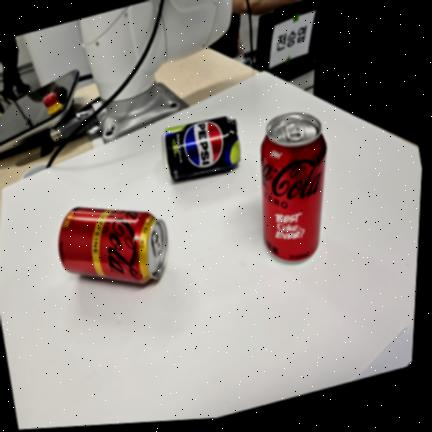can_coke_decaf: (57, 209, 169, 287)
can_coke_zero: (260, 112, 326, 268)
can_pepsi_zero: (158, 117, 242, 183)
